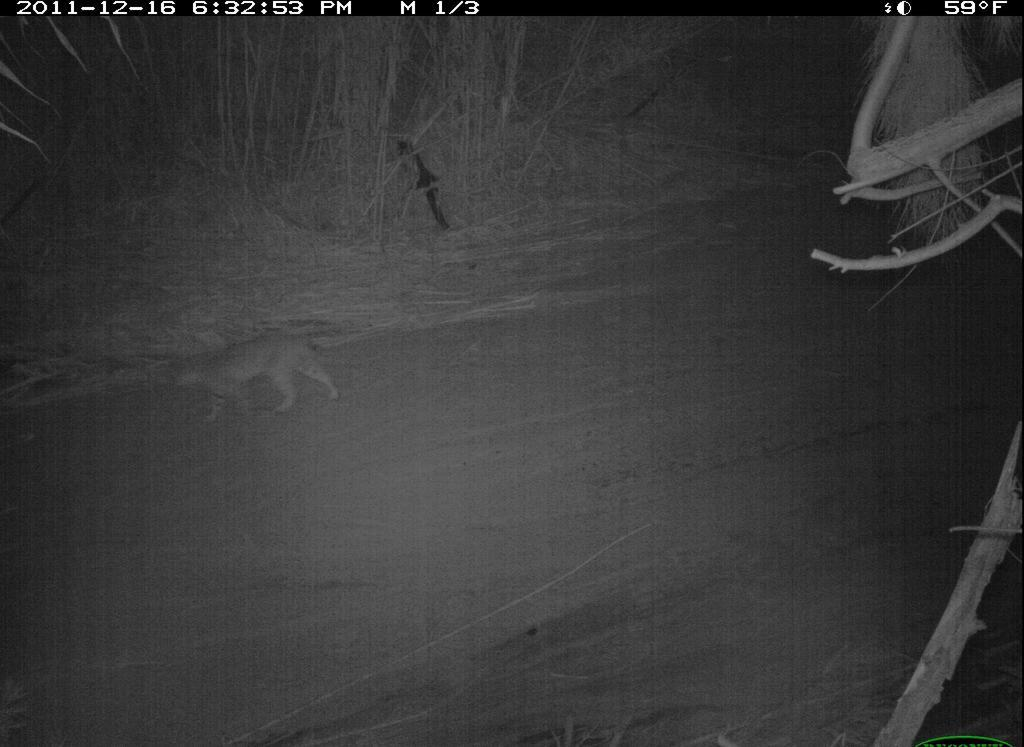bobcat: (163, 318, 365, 446)
